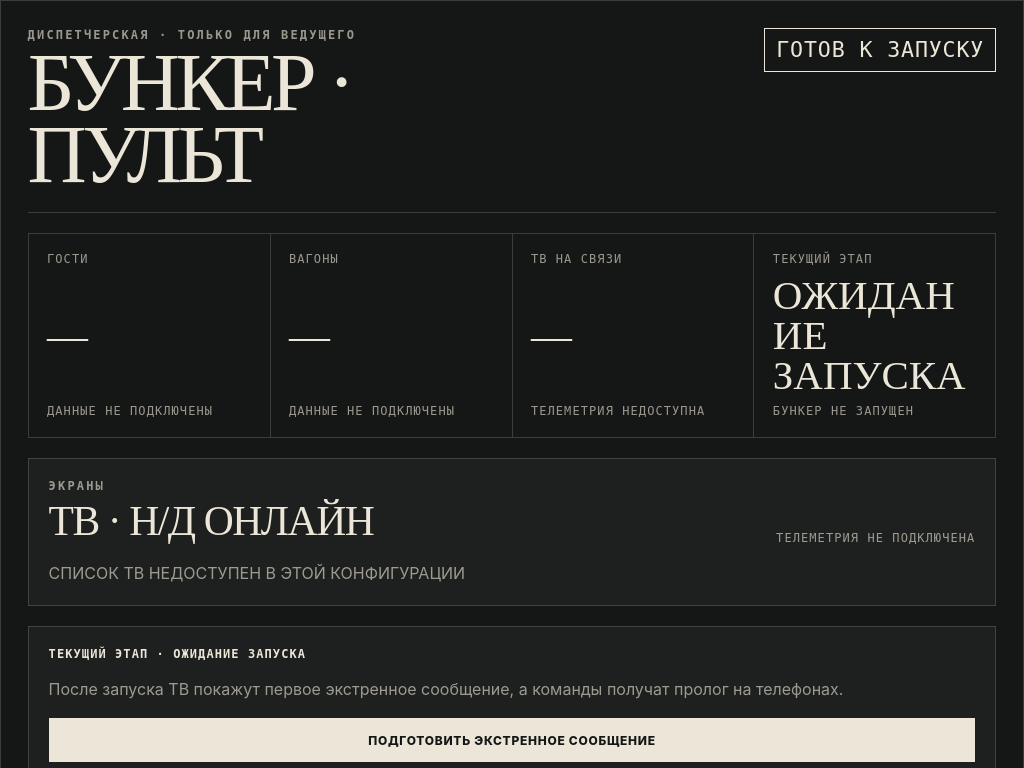
AdminBunkerControl › requires a deliberate second confirmation before starting the 30 minute emergency
The image size is (1024, 768).
Expected: the heading "БУНКЕР · ПУЛЬТ" is shown, [28, 37, 351, 200]
Click the button "ПОДГОТОВИТЬ ЭКСТРЕННОЕ СООБЩЕНИЕ" at (512, 740), box [49, 718, 975, 762]
(page scrolled)
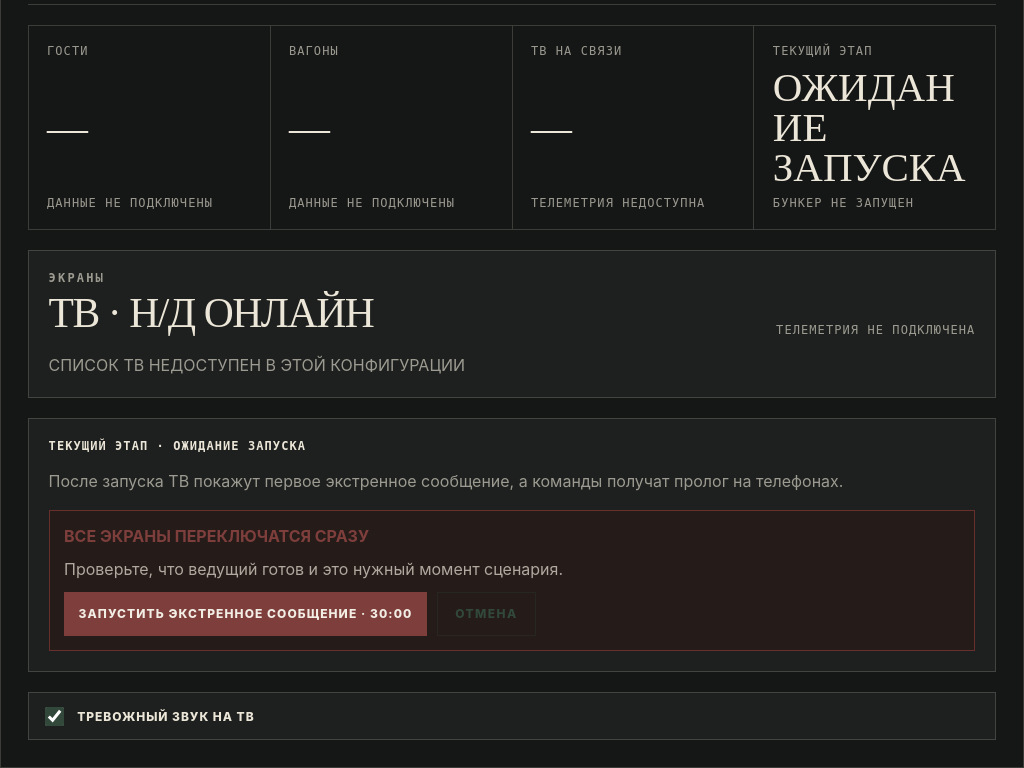
Expected: the text "ВСЕ ЭКРАНЫ ПЕРЕКЛЮЧАТСЯ СРАЗУ" is shown, [64, 526, 369, 546]
Click the button "ЗАПУСТИТЬ ЭКСТРЕННОЕ СООБЩЕНИЕ · 30:00" at (246, 614), box [64, 592, 427, 636]
(page scrolled)
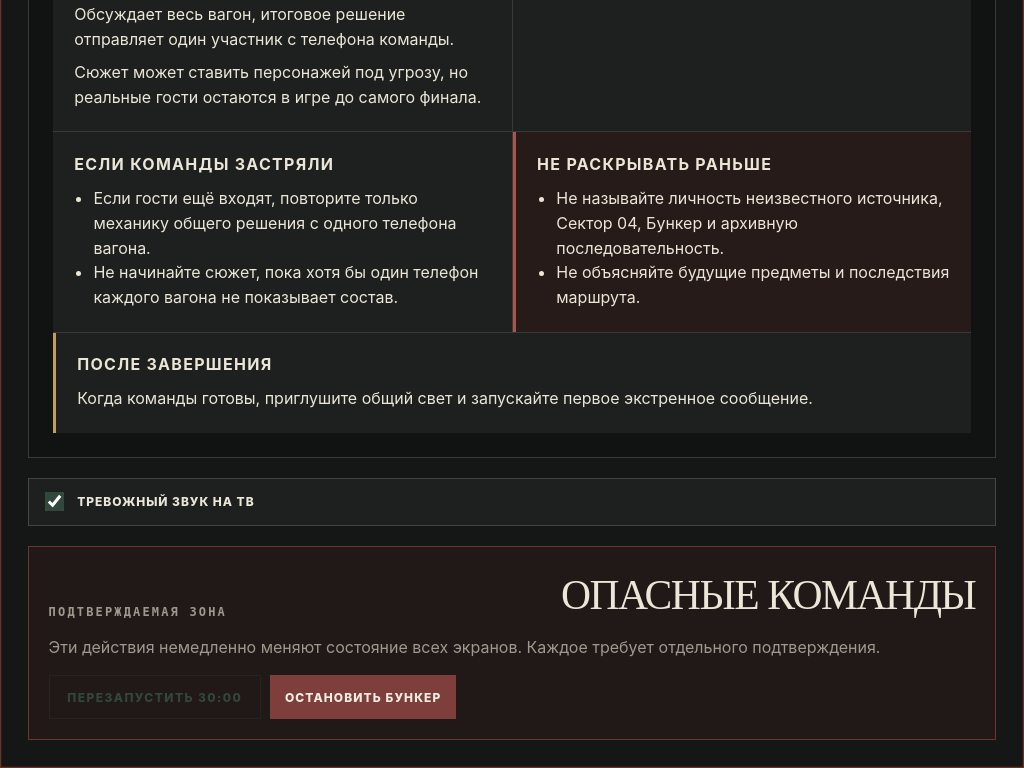
Expected: the button "ОСТАНОВИТЬ БУНКЕР" is shown, [270, 675, 456, 719]
